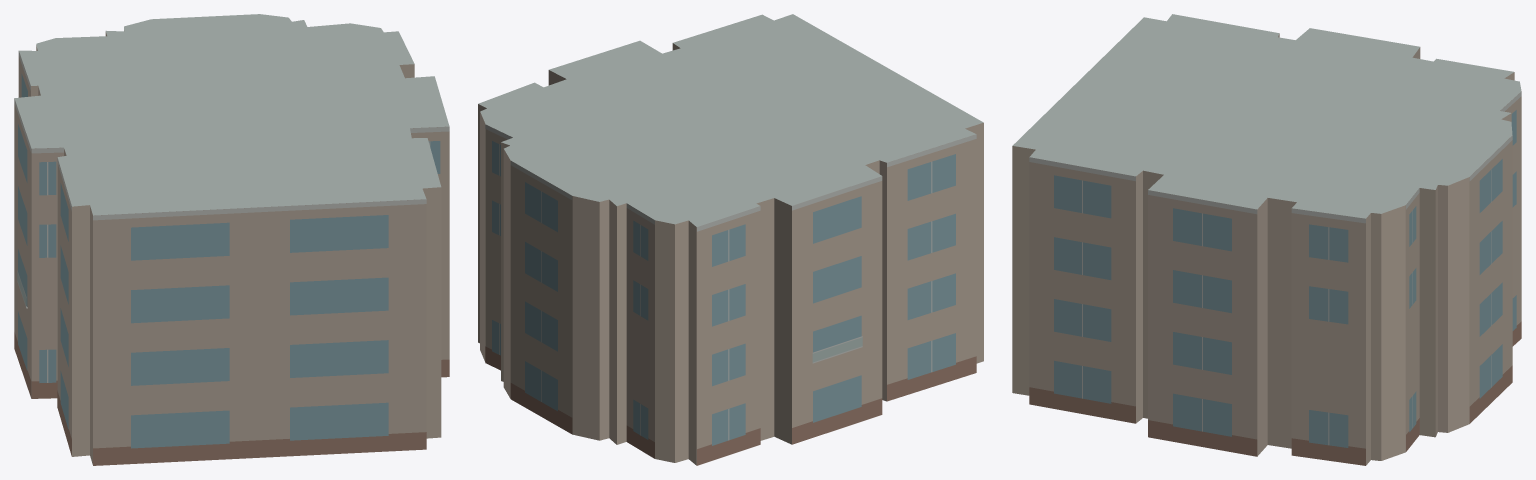
File: survey-upis-32564929.glb
The picture shows the model from 3 angles, left to right: view 1: azimuth 30°, elevation 25°; view 2: azimuth 150°, elevation 25°; view 3: azimuth 270°, elevation 25°; orthographic projection. The views are drawn at different scales.
Visible parts, largest first — view 1: survey-upis-32564929.tmp; view 2: survey-upis-32564929.tmp; view 3: survey-upis-32564929.tmp.
Boxes of the visible parts, box(x1,y1,x2,y2) form: survey-upis-32564929.tmp: box(14, 14, 449, 465); survey-upis-32564929.tmp: box(478, 14, 983, 465); survey-upis-32564929.tmp: box(1012, 14, 1521, 465).
Bounding box in the file's own units: 22.25 × 12.53 × 23.4.
